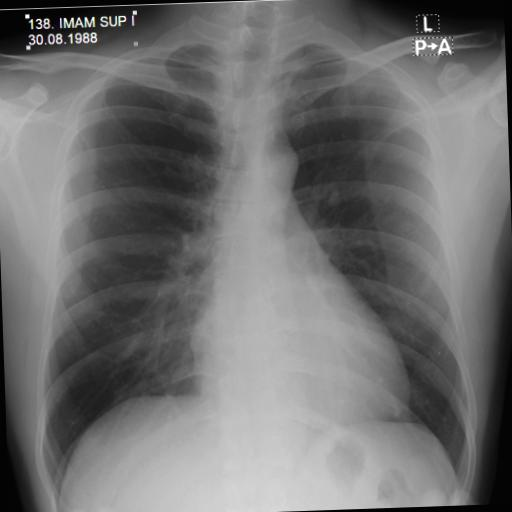kardiomegali: (22, 3, 479, 512)
